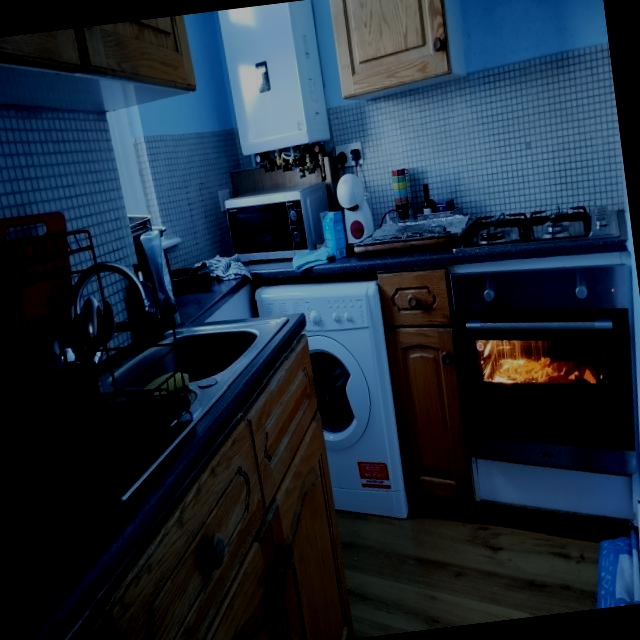cabinet: (70, 341, 345, 640), (377, 270, 474, 503), (0, 14, 196, 114), (330, 0, 451, 97)
countertop: (36, 315, 305, 640), (252, 212, 632, 295)
microwave: (224, 183, 330, 259)
oven: (448, 252, 640, 524)
shower: (97, 320, 281, 395)
sofa: (448, 209, 598, 252)
